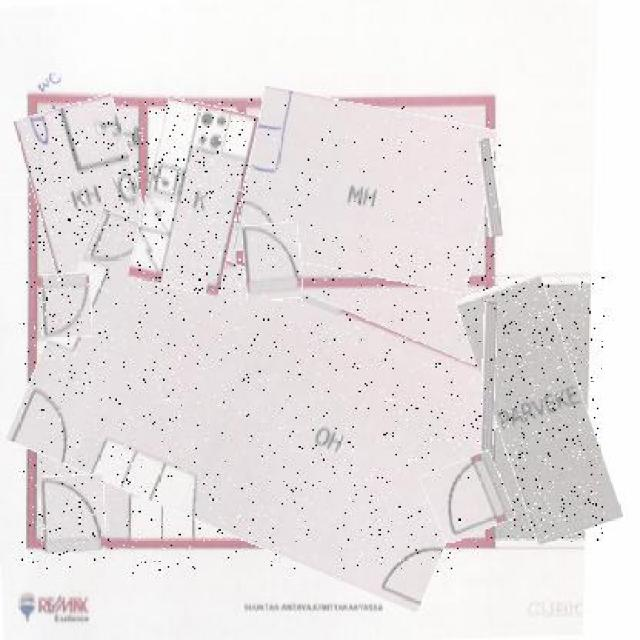door: (21, 246, 498, 574), (242, 97, 490, 285), (476, 277, 604, 541), (24, 100, 148, 282), (426, 455, 511, 537), (40, 474, 105, 554), (243, 223, 302, 299), (40, 274, 92, 337)
window: (481, 302, 497, 456), (480, 138, 500, 237)
zone: (138, 100, 250, 294)
